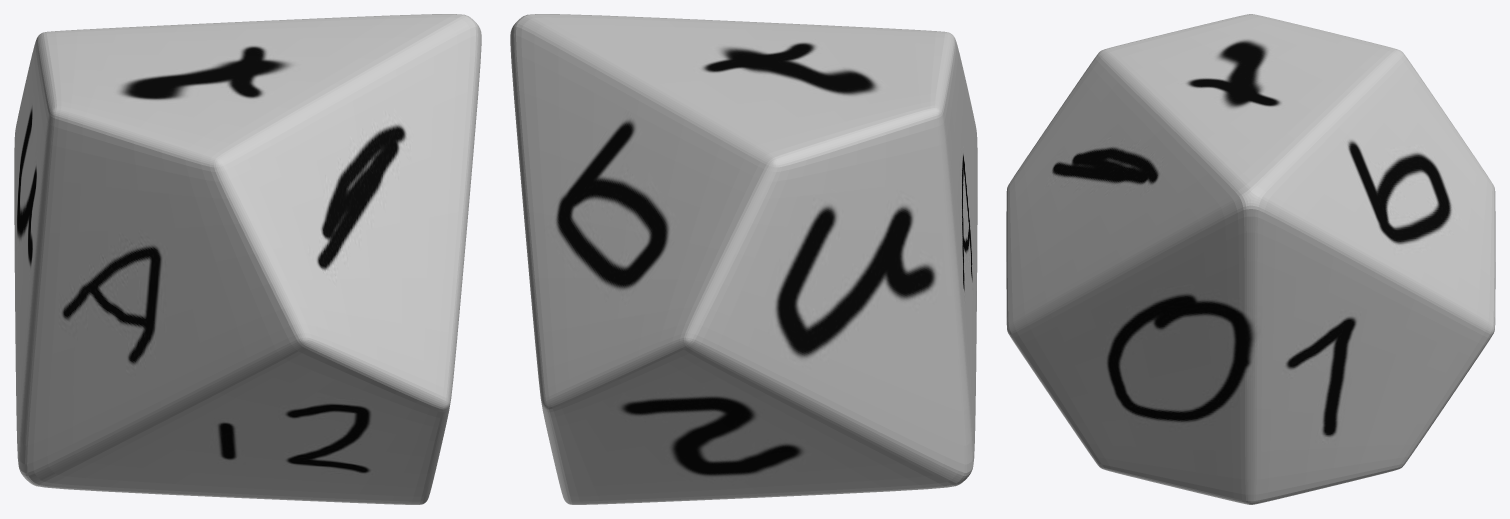
The picture shows the model from 3 angles, left to right: view 1: azimuth 30°, elevation 25°; view 2: azimuth 150°, elevation 25°; view 3: azimuth 270°, elevation 25°; orthographic projection. The views are drawn at different scales.
Parts seen in each view (by area): view 1: d10; view 2: d10; view 3: d10.
Part boxes in pixels (bbox=[...]): d10: bbox=[14, 14, 481, 504]; d10: bbox=[510, 14, 977, 504]; d10: bbox=[1006, 14, 1495, 504].
Bounding box in the file's own units: 5.95 × 5.1 × 6.5.
1 material, 1 textured.
